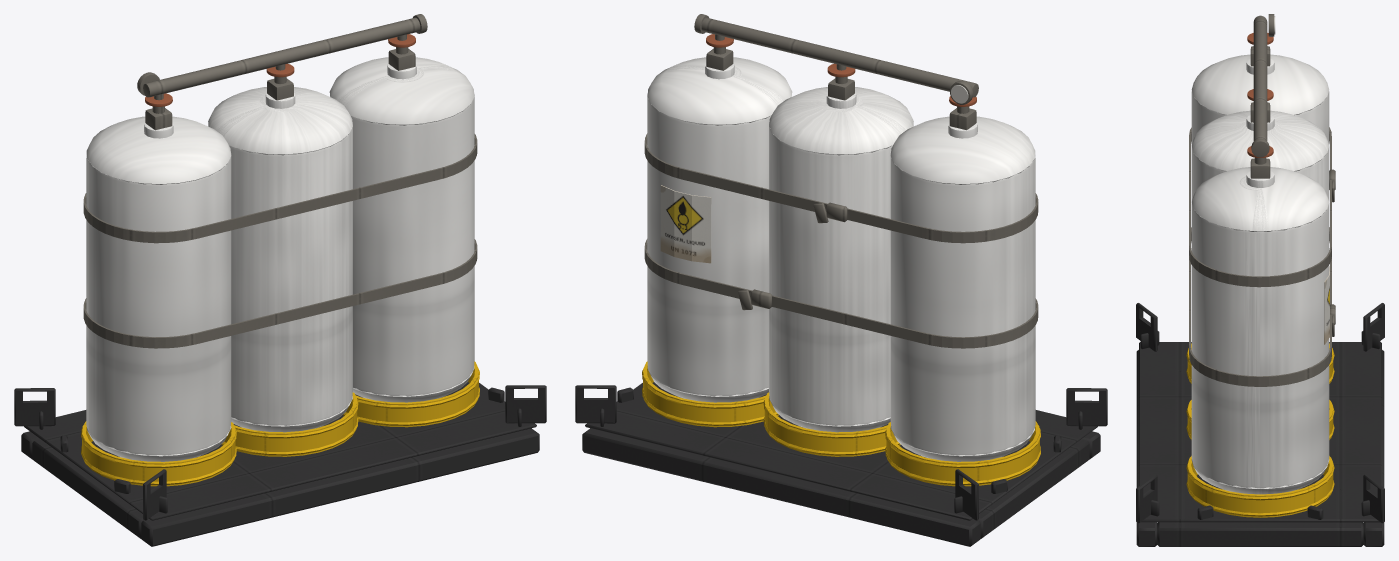
The model's file is drum_crate.glb.
3 views of the same model, side by side, from view 1: azimuth 30°, elevation 25°; view 2: azimuth 150°, elevation 25°; view 3: azimuth 270°, elevation 25° (orthographic). The views are drawn at different scales.
Visible parts, largest first — view 1: drum_1, drum_2, drum_3, pallet, manifold, strap_hi, strap_lo, chime_1, chime_3, chime_2, lug_2, lug_3 (+2 smaller); view 2: drum_1, drum_2, drum_3, pallet, manifold, strap_hi, strap_lo, chime_1, placard, chime_3, chime_2, lug_1 (+3 smaller); view 3: drum_3, pallet, drum_1, drum_2, chime_3, manifold, strap_hi, strap_lo, lug_1, lug_2, lug_3, lug_4 (+3 smaller).
Part boxes in pixels (x1,y1,x2,y2): drum_1: (86,116,231,461); drum_2: (208,87,352,432); drum_3: (329,57,474,402); pallet: (21,382,539,546); manifold: (143,14,427,130); strap_hi: (83,134,477,243); strap_lo: (83,239,477,348); chime_1: (81,421,236,486); chime_3: (343,361,479,427); chime_2: (221,392,358,456); lug_2: (14,388,55,429); lug_3: (505,385,546,426); drum_1: (890,116,1035,461); drum_2: (769,87,913,432); drum_3: (647,57,792,402); pallet: (582,382,1100,546); manifold: (694,14,978,130); strap_hi: (644,133,1038,243); strap_lo: (644,239,1038,348); chime_1: (885,421,1040,486); placard: (660,185,711,263); chime_3: (642,361,778,427); chime_2: (763,392,900,456); lug_1: (1066,388,1107,429); drum_3: (1191,167,1329,494); pallet: (1136,342,1384,546); drum_1: (1191,54,1329,147); drum_2: (1191,110,1329,203); chime_3: (1186,456,1334,517); manifold: (1250,15,1270,178); strap_hi: (1189,127,1335,287); strap_lo: (1189,227,1335,386); lug_1: (1136,303,1159,351); lug_2: (1361,303,1384,351); lug_3: (1136,474,1159,523); lug_4: (1361,474,1384,523).
Bounding box in the file's own units: 1.92 × 1.85 × 1.08.
Materials: 7 (5 with a texture image).
